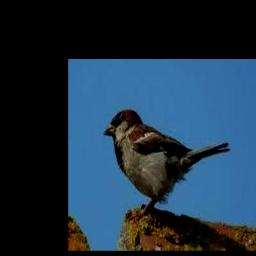Sparrow: (104, 109, 230, 222)
